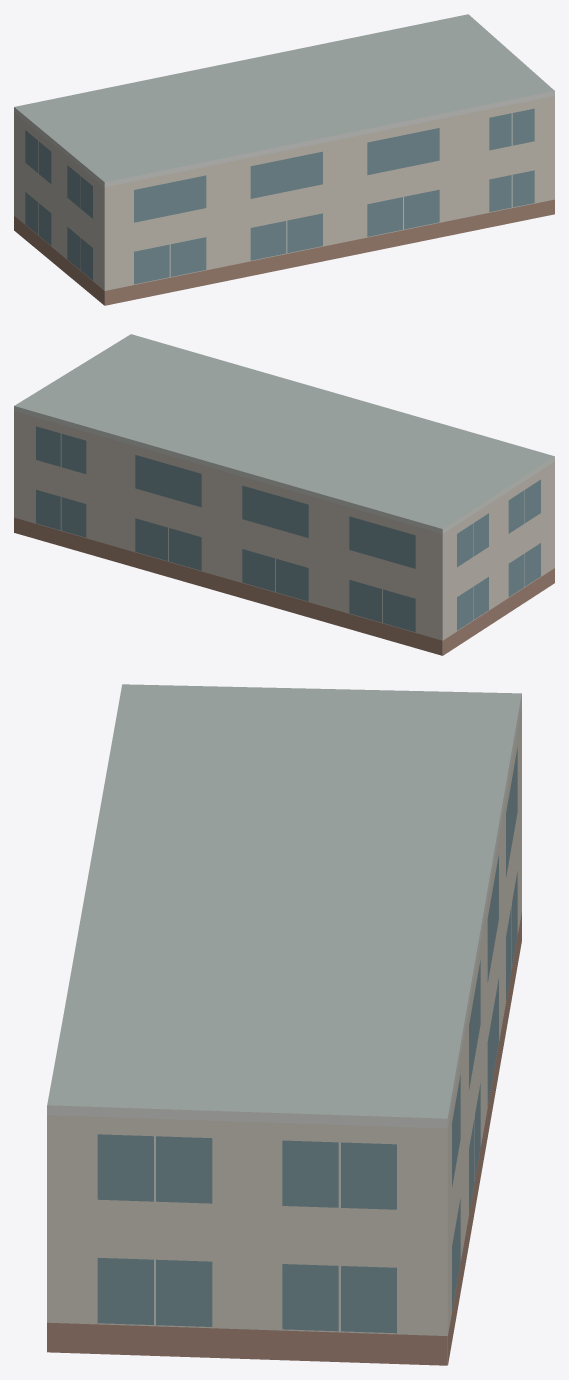
Rendered from survey-upis-32768823.glb.
3 views of the same model, one above another, from view 1: azimuth 30°, elevation 25°; view 2: azimuth 150°, elevation 25°; view 3: azimuth 270°, elevation 25° (orthographic). The views are drawn at different scales.
Parts seen in each view (by area): view 1: survey-upis-32768823.tmp; view 2: survey-upis-32768823.tmp; view 3: survey-upis-32768823.tmp.
Boxes of the visible parts, x1,y1,x2,y2 form: survey-upis-32768823.tmp: (14,14,554,305); survey-upis-32768823.tmp: (14,334,554,655); survey-upis-32768823.tmp: (47,684,521,1365).
Size of the model in its own units: 23.02 by 6.1 by 10.64.
